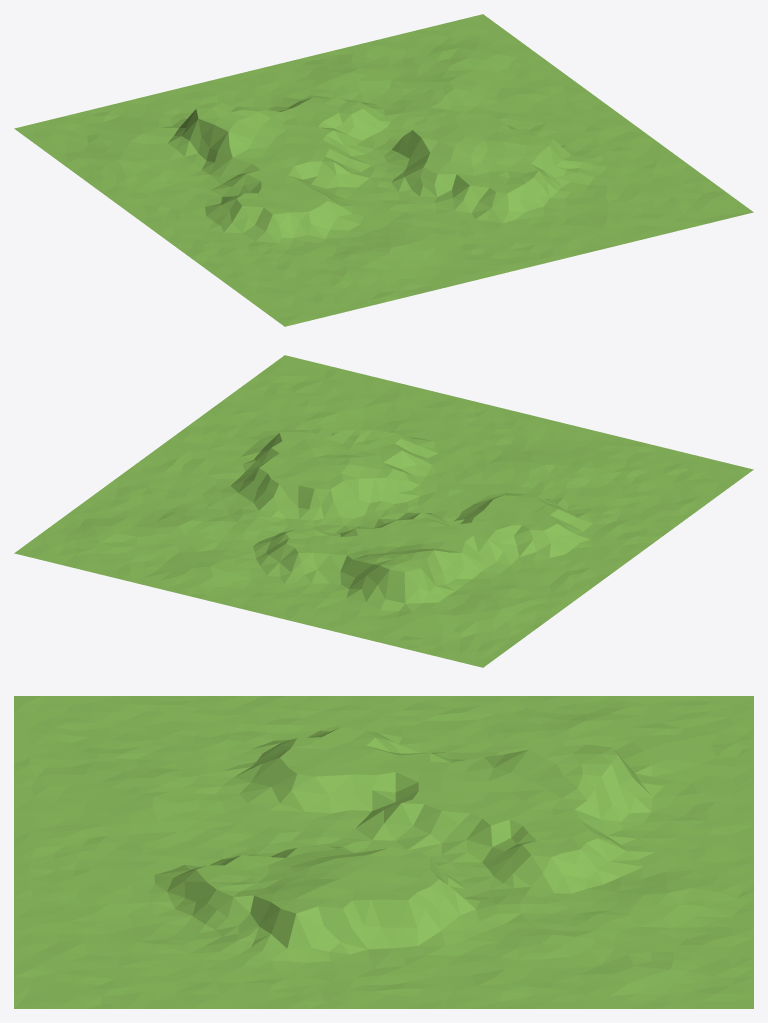
The model's file is MT_Terrain_L_c_10.fbx.
3 views of the same model, one above another, from view 1: azimuth 30°, elevation 25°; view 2: azimuth 150°, elevation 25°; view 3: azimuth 270°, elevation 25° (orthographic). The views are drawn at different scales.
Parts seen in each view (by area): view 1: MT_Terrain_L_c_10; view 2: MT_Terrain_L_c_10; view 3: MT_Terrain_L_c_10.
Part boxes in pixels (x1,y1,x2,y2): MT_Terrain_L_c_10: (14,14,753,326); MT_Terrain_L_c_10: (14,355,753,667); MT_Terrain_L_c_10: (14,696,753,1008).
Size of the model in its own units: 10000 by 583 by 10000.
